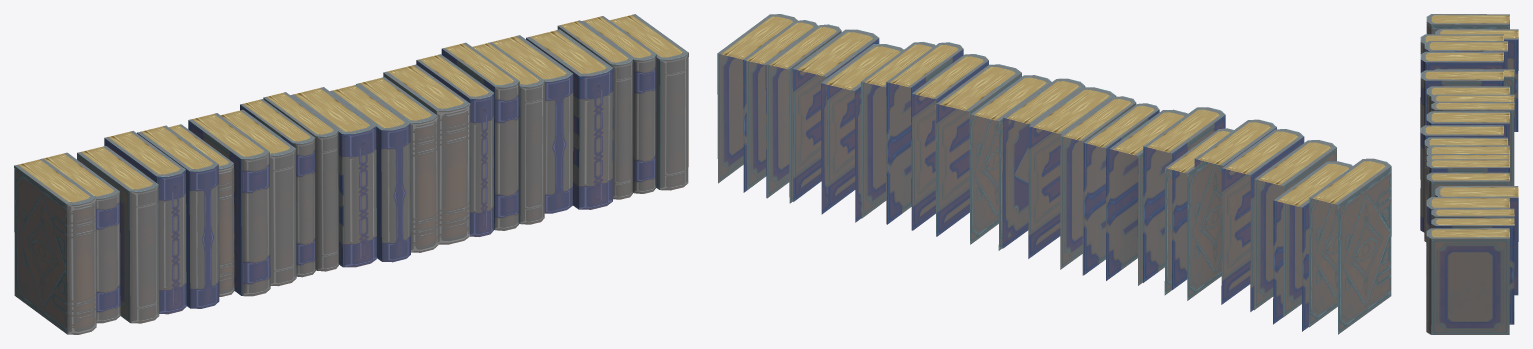
File: BookGroup_Large_2.fbx
3 renders of one model, left to right at view 1: azimuth 30°, elevation 25°; view 2: azimuth 150°, elevation 25°; view 3: azimuth 270°, elevation 25°, orthographic. The views are drawn at different scales.
Parts seen in each view (by area): view 1: BookGroup_Large_2; view 2: BookGroup_Large_2; view 3: BookGroup_Large_2.
Part boxes in pixels (x1=…): BookGroup_Large_2: x1=14, y1=14, x2=688, y2=334; BookGroup_Large_2: x1=717, y1=14, x2=1391, y2=334; BookGroup_Large_2: x1=1420, y1=14, x2=1518, y2=334.
Size of the model in its own units: 134 by 29.49 by 24.75.
